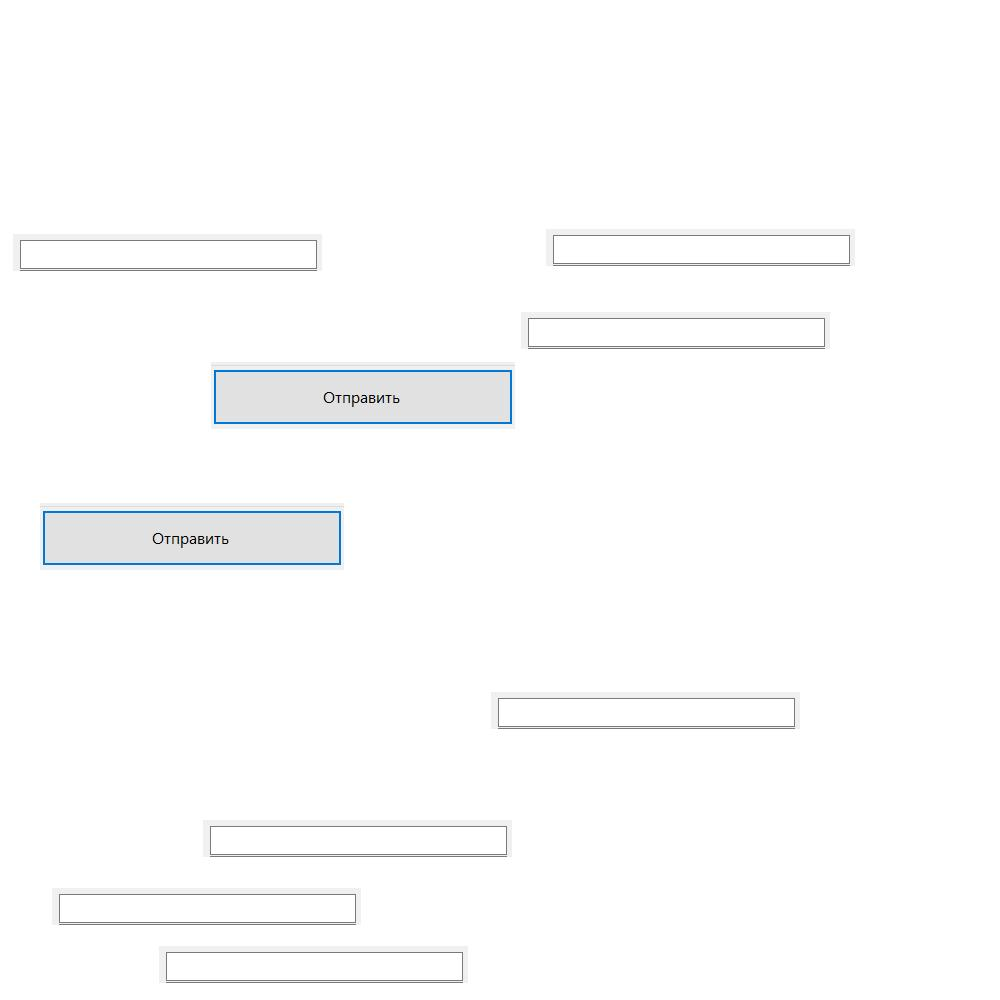Button: (211, 362, 515, 429), (40, 503, 344, 570)
EditText-: (521, 312, 830, 349), (13, 234, 322, 271), (546, 229, 855, 266), (491, 692, 800, 729), (159, 946, 468, 983), (203, 820, 512, 857), (52, 888, 361, 925)
